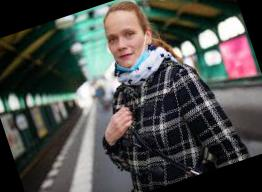mask_weared_incorrect: (102, 13, 152, 76)
